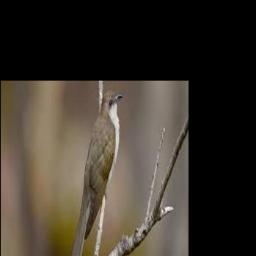Cuckoo: (63, 91, 124, 256)
